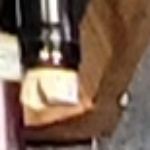bottle: (6, 32, 102, 108)
